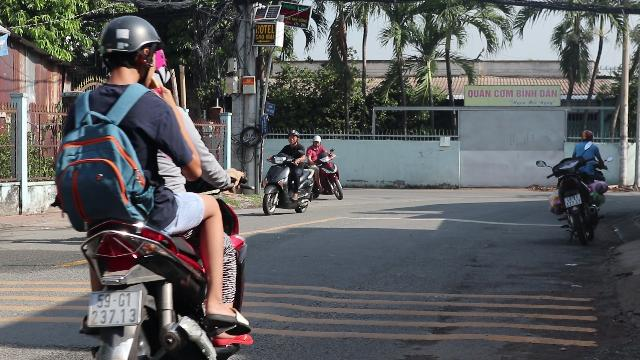helmet: (96, 15, 160, 81)
licenseplate: (88, 291, 140, 326)
motorcyclist: (48, 14, 256, 356)
